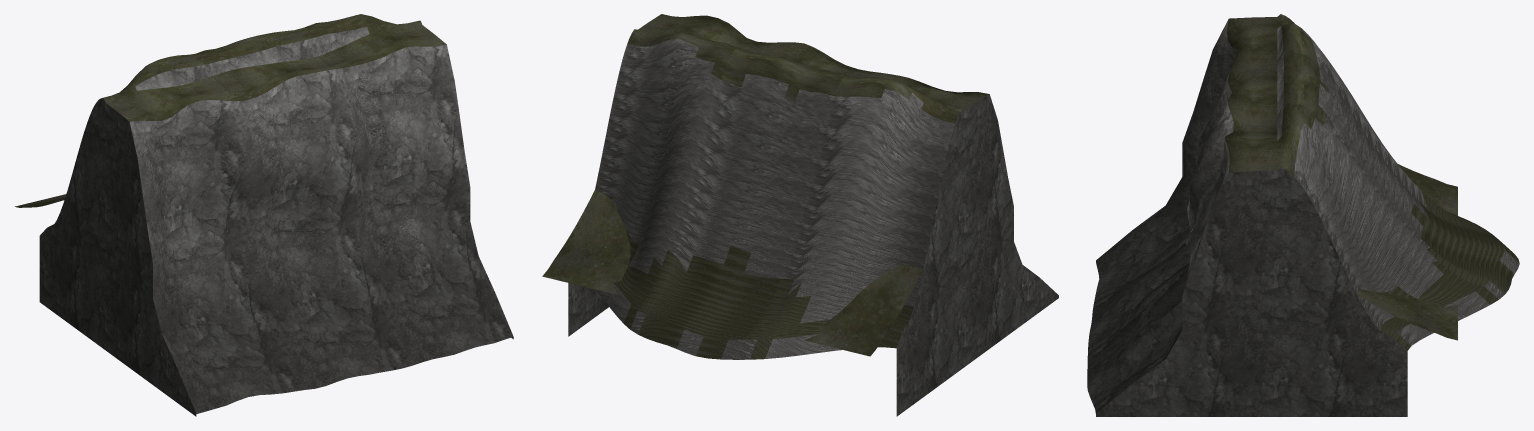
Rendered from seacliff_straight6c_h3_v5_summer.glb.
The picture shows the model from 3 angles, left to right: view 1: azimuth 30°, elevation 25°; view 2: azimuth 150°, elevation 25°; view 3: azimuth 270°, elevation 25°; orthographic projection. The views are drawn at different scales.
Visible parts, largest first — view 1: seacliff_straight6c_h3; view 2: seacliff_straight6c_h3; view 3: seacliff_straight6c_h3.
Boxes of the visible parts, box(x1,y1,x2,y2) form: seacliff_straight6c_h3: box(15, 14, 513, 416); seacliff_straight6c_h3: box(542, 14, 1058, 416); seacliff_straight6c_h3: box(1087, 14, 1519, 416).
Size of the model in its own units: 6 by 4.84 by 7.13.
Materials: 2 (2 with a texture image).
